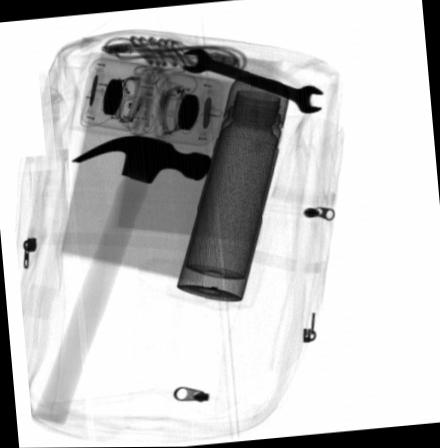Hammer: (31, 136, 209, 425)
Wrench: (179, 48, 321, 115)
